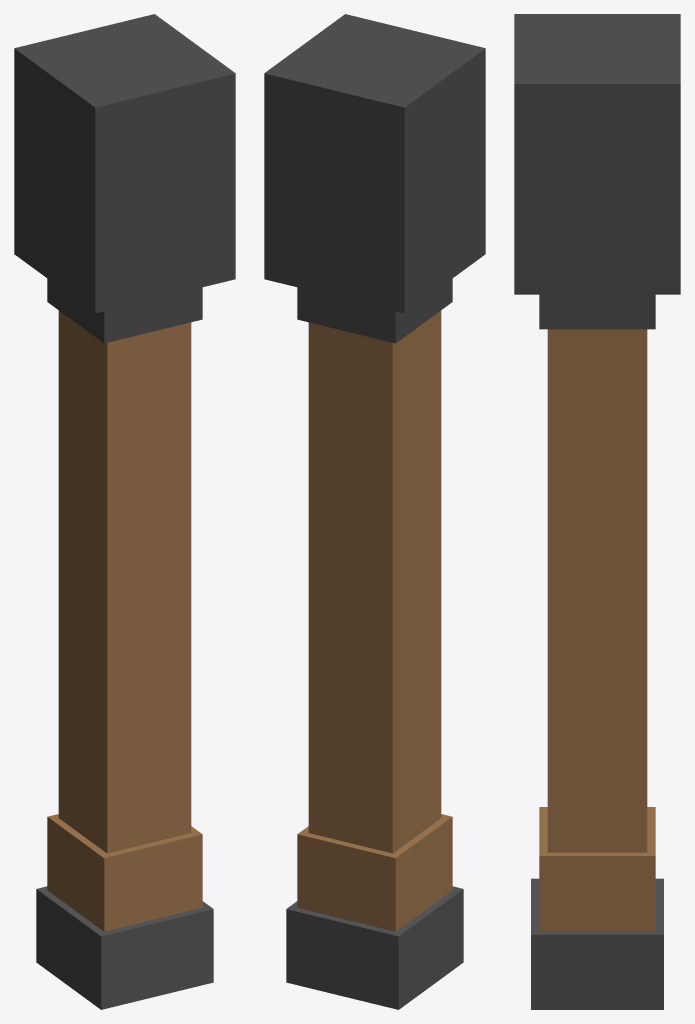
File: stickGranade.fbx
The picture shows the model from 3 angles, left to right: view 1: azimuth 30°, elevation 25°; view 2: azimuth 150°, elevation 25°; view 3: azimuth 270°, elevation 25°; orthographic projection. The views are drawn at different scales.
Visible parts, largest first — view 1: stickGranade_base, stickGranade_lid; view 2: stickGranade_base, stickGranade_lid; view 3: stickGranade_base, stickGranade_lid.
Boxes of the visible parts, bbox=[...] form: stickGranade_base: bbox=[14, 14, 235, 931]; stickGranade_lid: bbox=[36, 886, 213, 1009]; stickGranade_base: bbox=[264, 14, 485, 931]; stickGranade_lid: bbox=[286, 886, 463, 1009]; stickGranade_base: bbox=[514, 14, 680, 931]; stickGranade_lid: bbox=[531, 878, 663, 1009].
Size of the model in its own units: 20 by 124 by 20.
